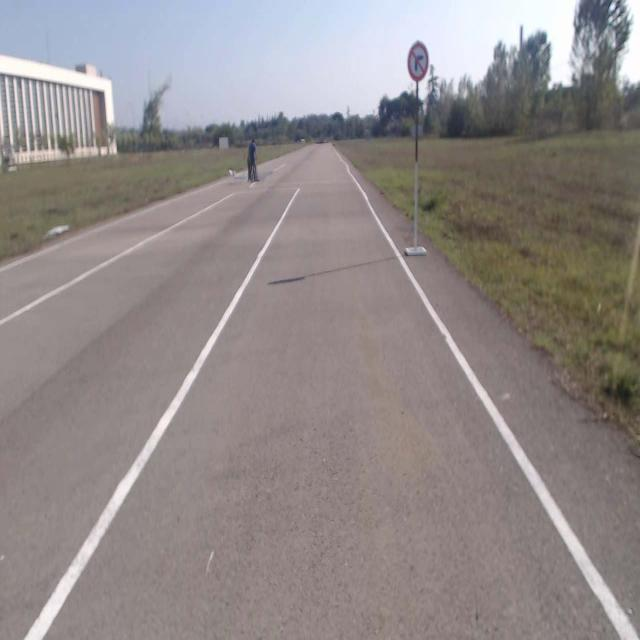sagadonulmez: (409, 45, 428, 79)
